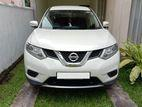car: (24, 5, 120, 93)
